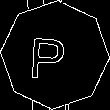P_N: (35, 29, 75, 81)
